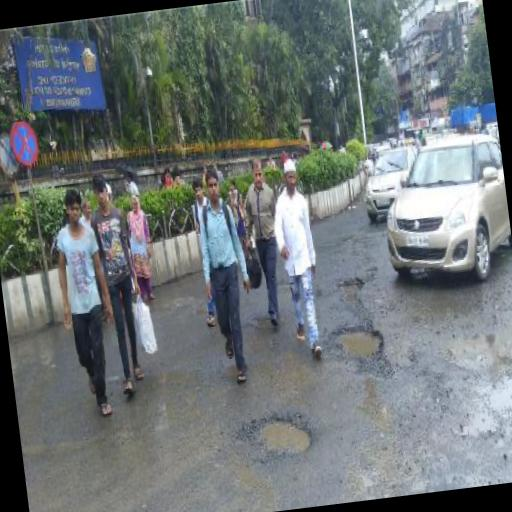pothole: (256, 407, 316, 458), (328, 318, 388, 368), (339, 272, 368, 297)
